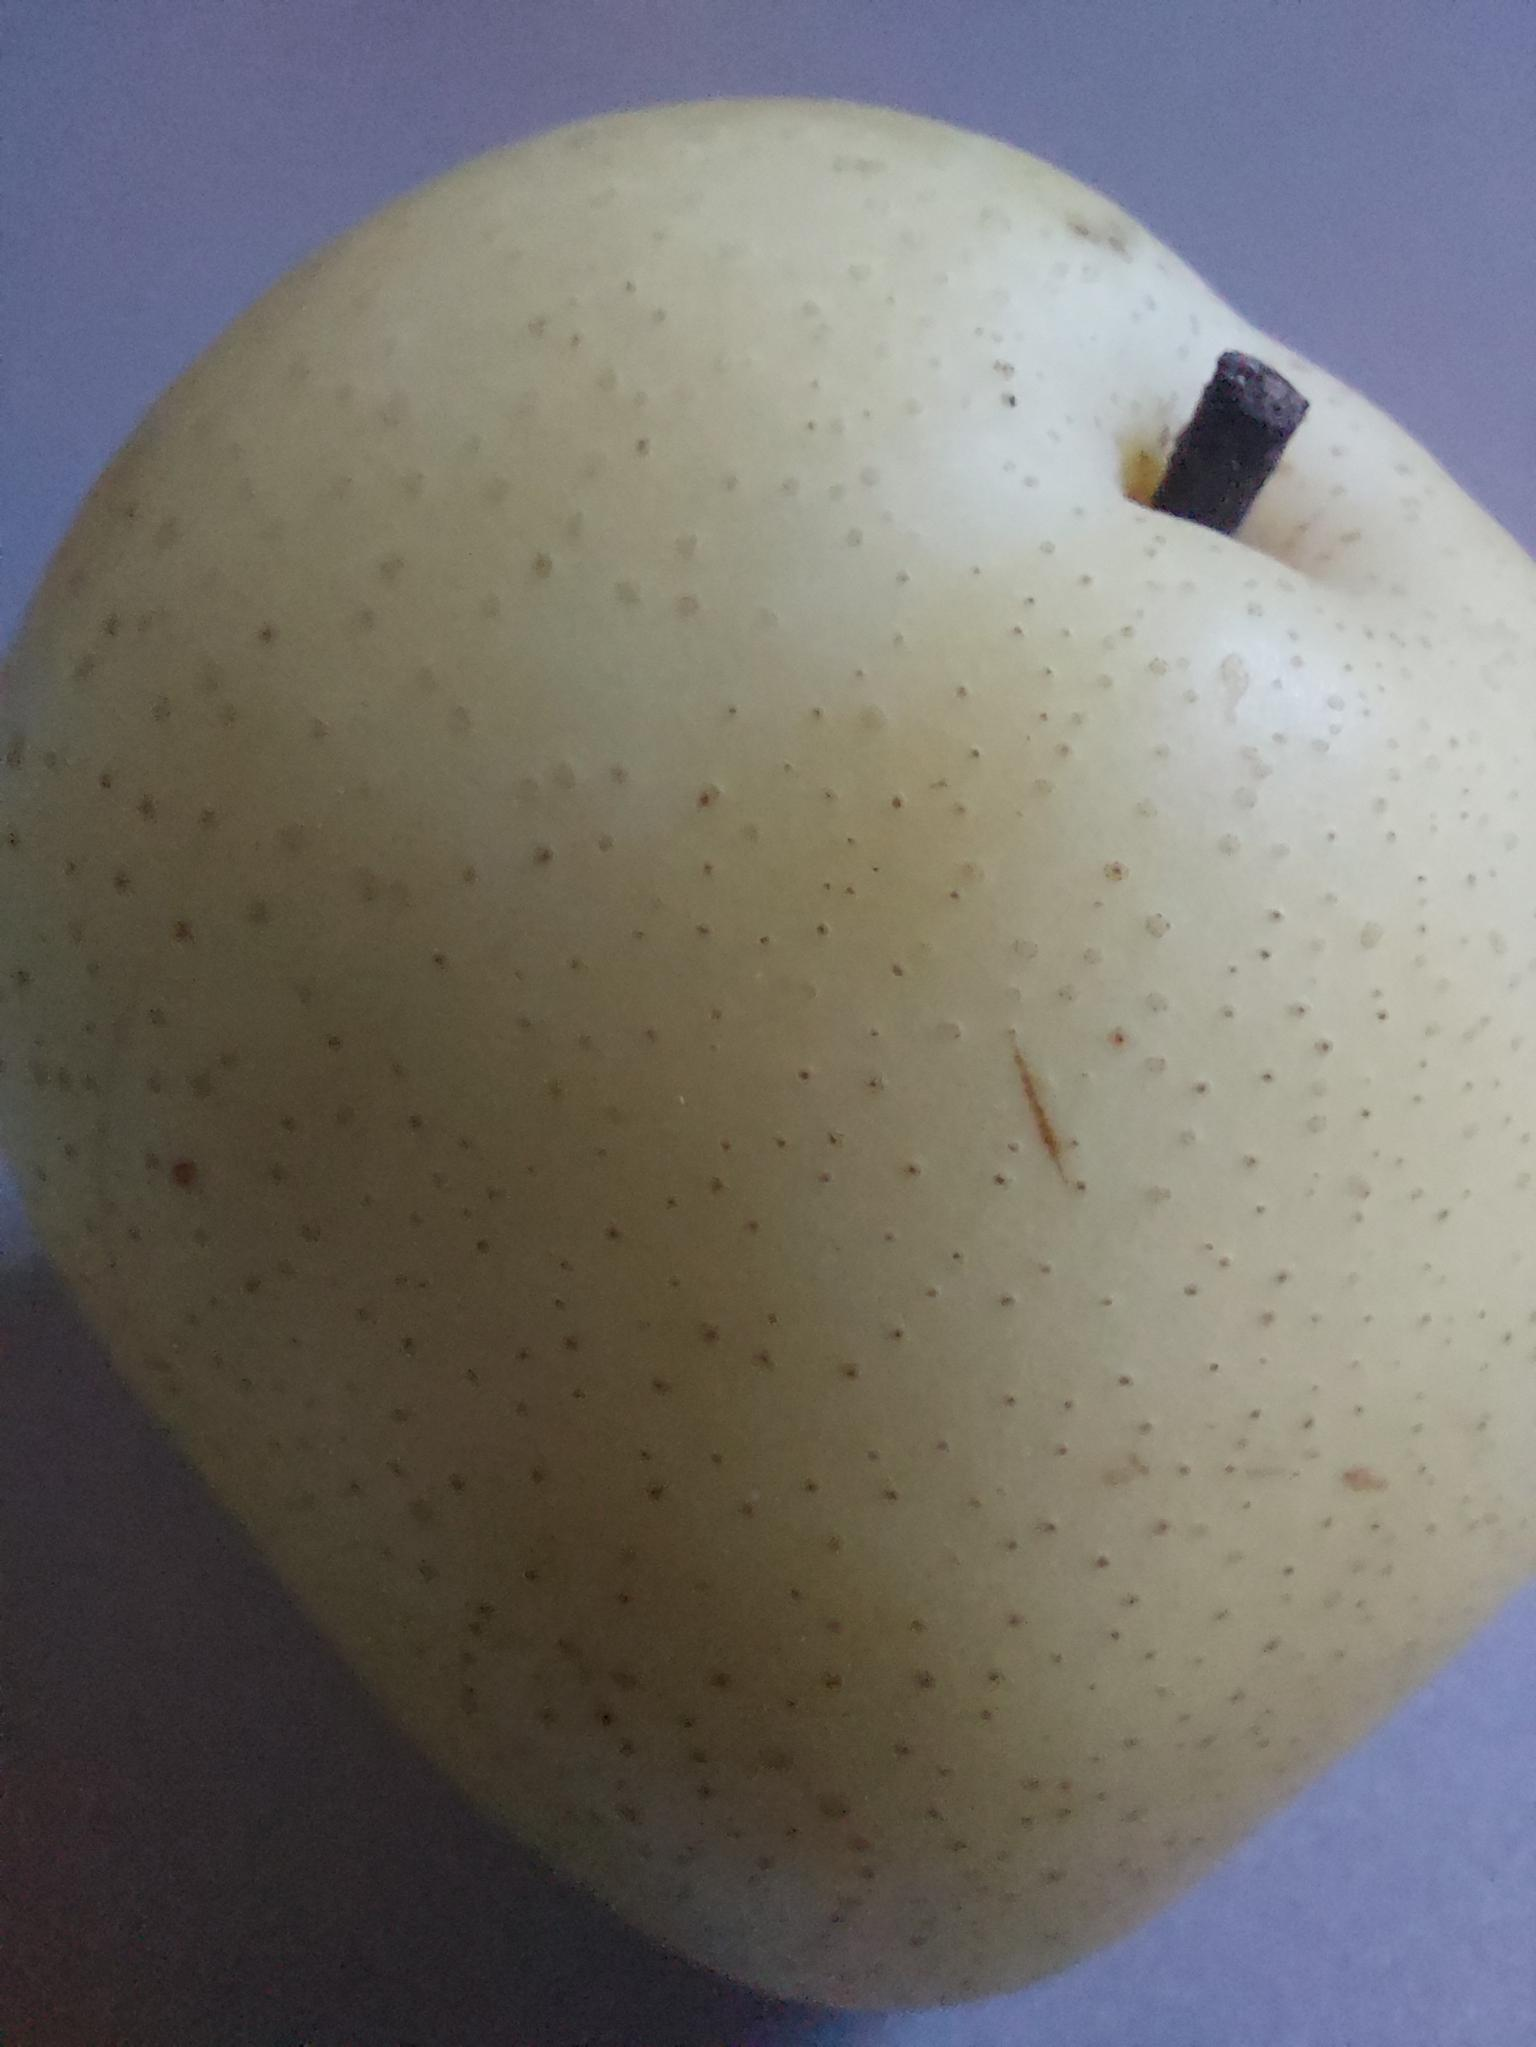Good Pear: (27, 35, 1536, 2047)
